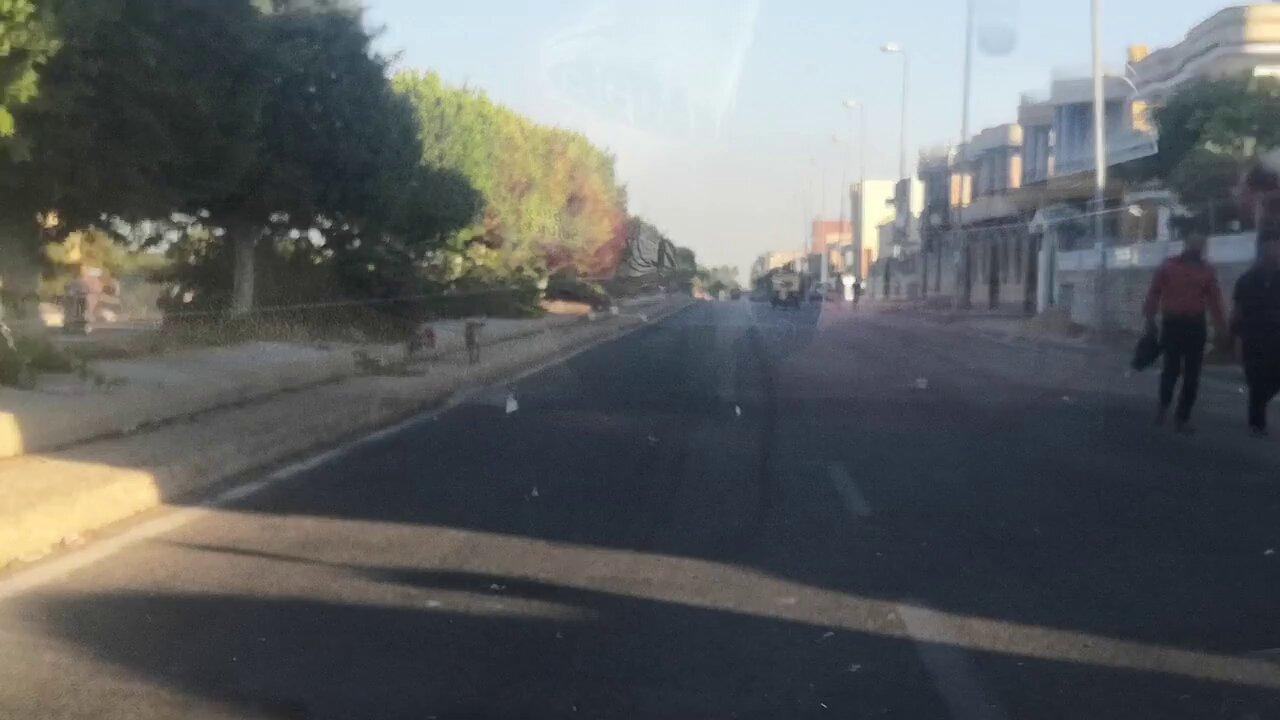Bump: (468, 380, 1175, 417)
